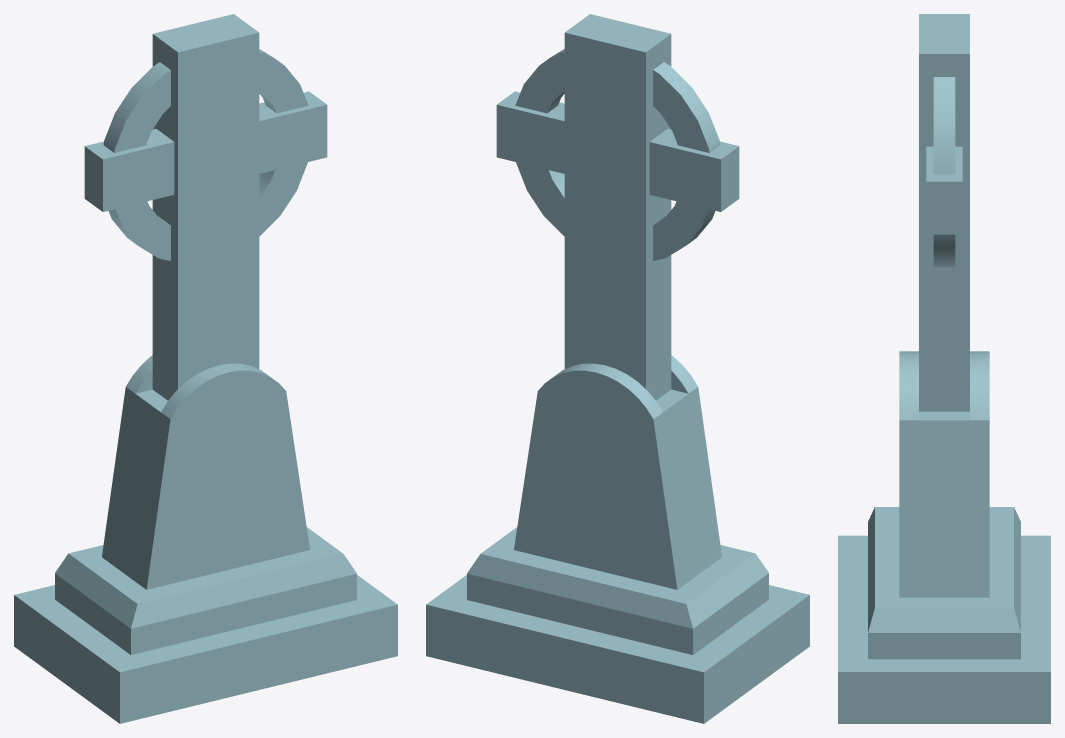
Rendered from gravestoneCrossLarge.fbx.
The picture shows the model from 3 angles, left to right: view 1: azimuth 30°, elevation 25°; view 2: azimuth 150°, elevation 25°; view 3: azimuth 270°, elevation 25°; orthographic projection.
Parts seen in each view (by area): view 1: gravestoneCrossLarge; view 2: gravestoneCrossLarge; view 3: gravestoneCrossLarge.
Part boxes in pixels (x1,y1,x2,y2): gravestoneCrossLarge: (14,14,397,723); gravestoneCrossLarge: (426,14,809,723); gravestoneCrossLarge: (838,14,1050,723).
Size of the model in its own units: 4.42 by 9.38 by 2.91.
